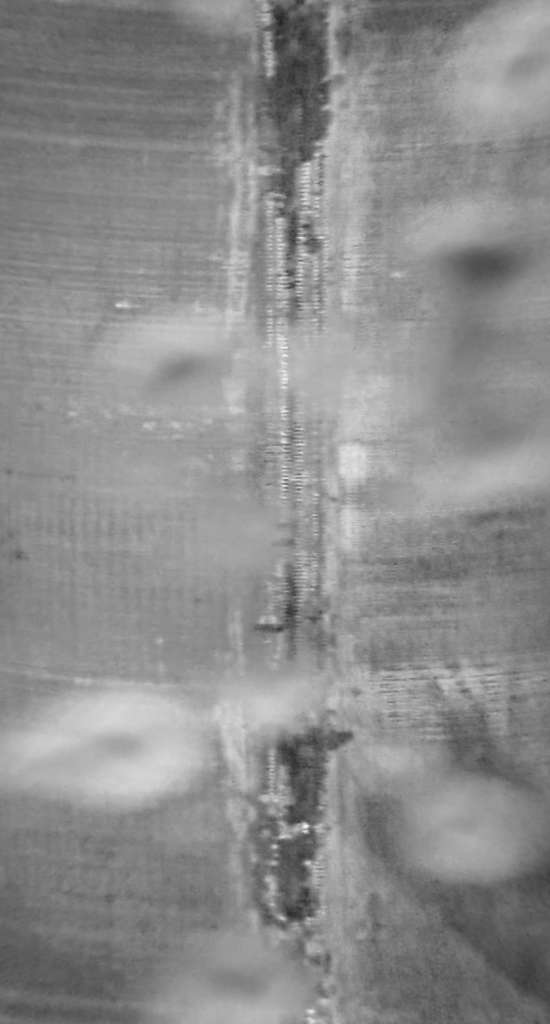splice: (238, 1, 343, 1024)
